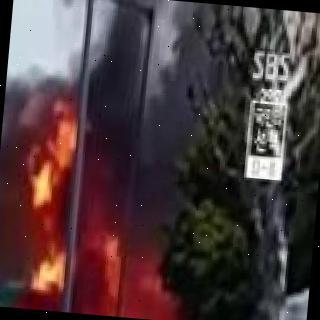fire: (7, 245, 174, 320), (28, 114, 82, 235)
